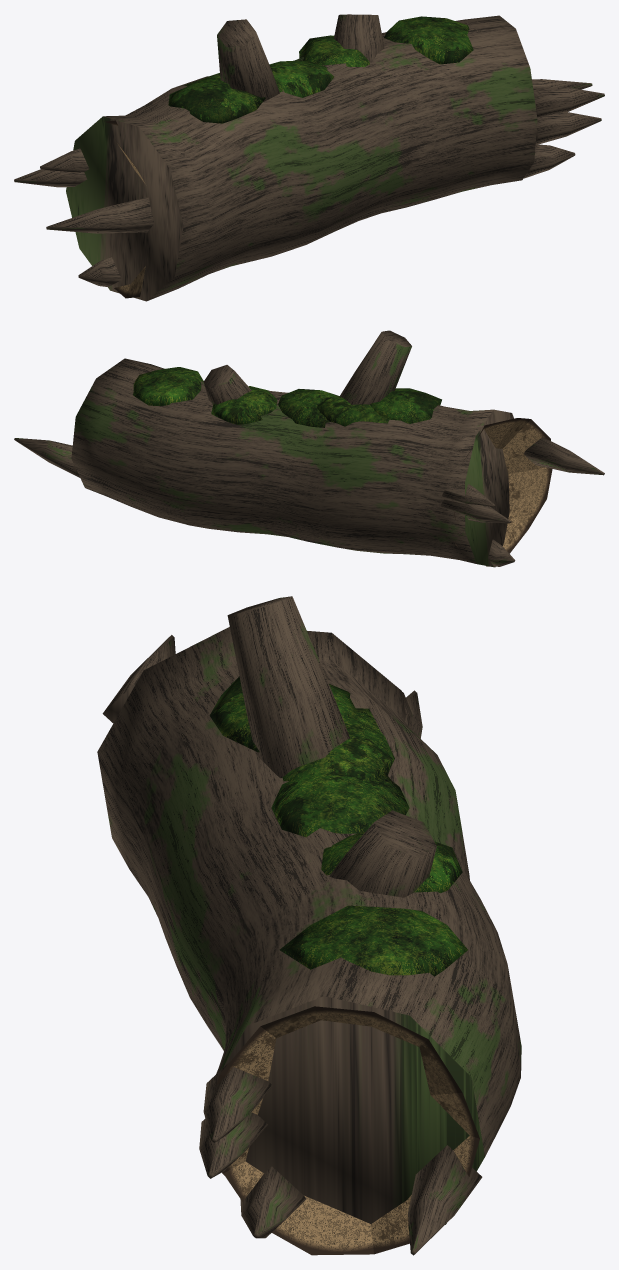
Rendered from Fallen_Log_B.glb.
3 views of the same model, one above another, from view 1: azimuth 30°, elevation 25°; view 2: azimuth 150°, elevation 25°; view 3: azimuth 270°, elevation 25° (orthographic). The views are drawn at different scales.
Visible parts, largest first — view 1: Fallen_Log_B__Bark, Fallen_Log_B__Moss, Fallen_Log_B__Ends; view 2: Fallen_Log_B__Bark, Fallen_Log_B__Moss, Fallen_Log_B__Ends; view 3: Fallen_Log_B__Bark, Fallen_Log_B__Moss, Fallen_Log_B__Ends.
Boxes of the visible parts, bbox=[...] form: Fallen_Log_B__Bark: bbox=[14, 14, 604, 301]; Fallen_Log_B__Moss: bbox=[168, 16, 473, 123]; Fallen_Log_B__Ends: bbox=[104, 120, 145, 298]; Fallen_Log_B__Bark: bbox=[14, 330, 604, 567]; Fallen_Log_B__Moss: bbox=[133, 367, 441, 427]; Fallen_Log_B__Ends: bbox=[454, 418, 552, 553]; Fallen_Log_B__Bark: bbox=[97, 596, 521, 1255]; Fallen_Log_B__Moss: bbox=[209, 676, 467, 976]; Fallen_Log_B__Ends: bbox=[206, 1006, 479, 1255].
Bounding box in the file's own units: 17.93 × 6.78 × 6.23.
Materials: 3 (3 with a texture image).
